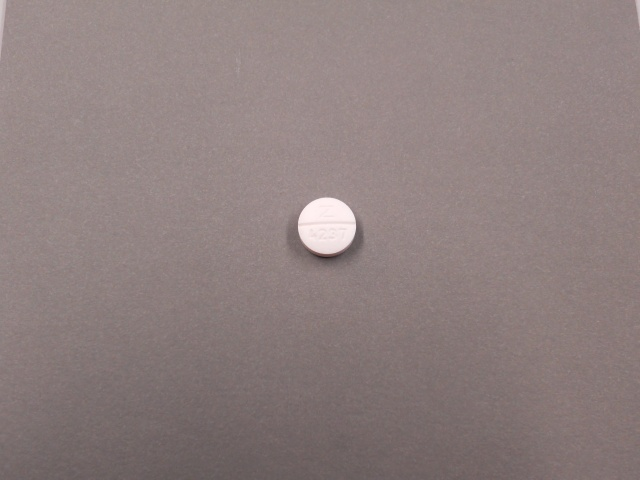2: (317, 227, 327, 241)
3: (327, 226, 336, 242)
7: (336, 226, 349, 243)
Z: (317, 203, 337, 219)
|: (298, 217, 357, 230)
